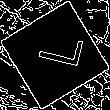L_W: (27, 34, 83, 76)
